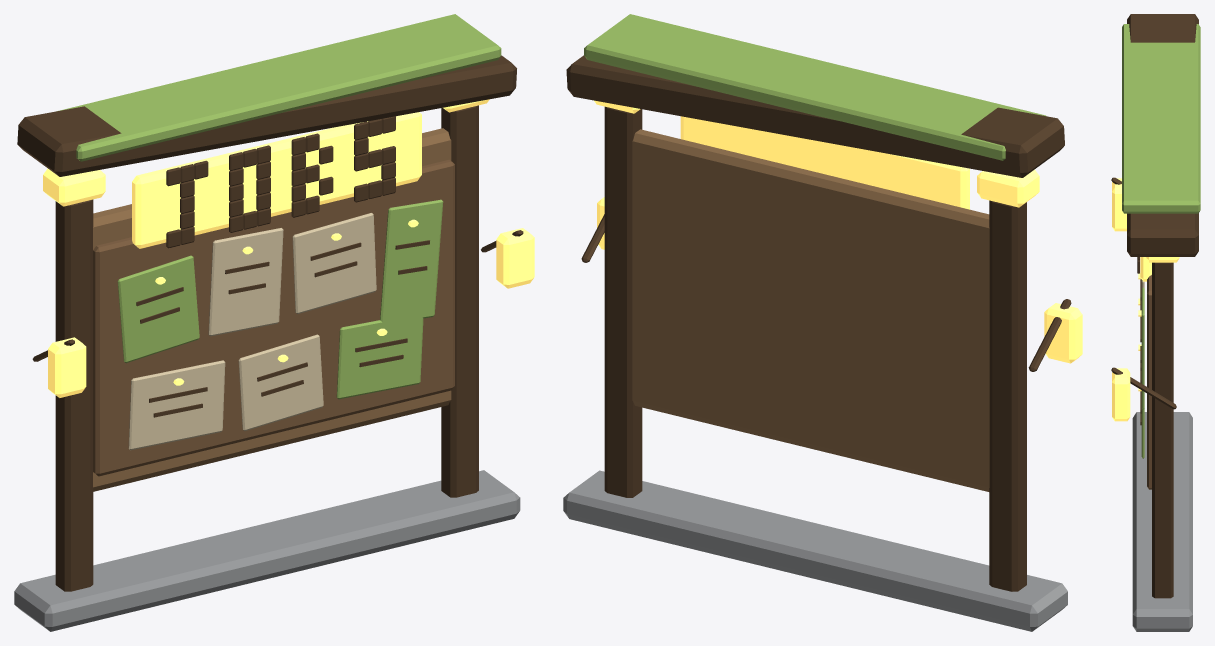
The model's file is jobs_board_green.glb.
3 renders of one model, left to right at view 1: azimuth 30°, elevation 25°; view 2: azimuth 150°, elevation 25°; view 3: azimuth 270°, elevation 25°, orthographic. The views are drawn at different scales.
Bounding box in the file's own units: 6.62 × 6.45 × 1.23.
